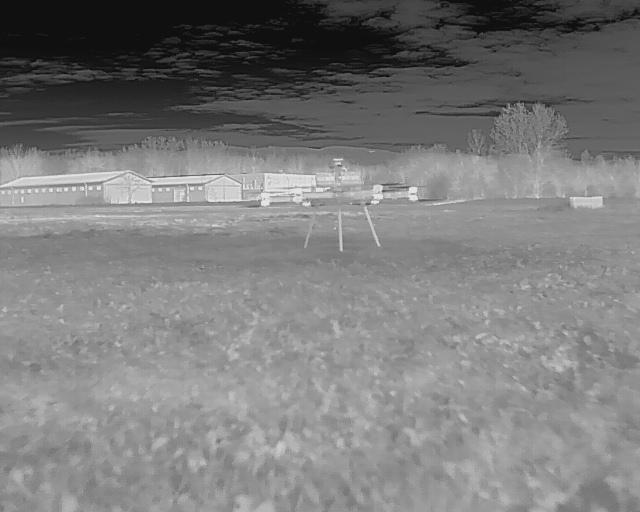drone: (235, 160, 434, 256)
